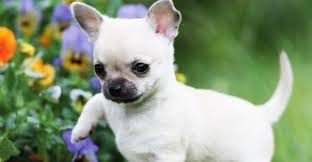chihuahua: (60, 2, 278, 162)
